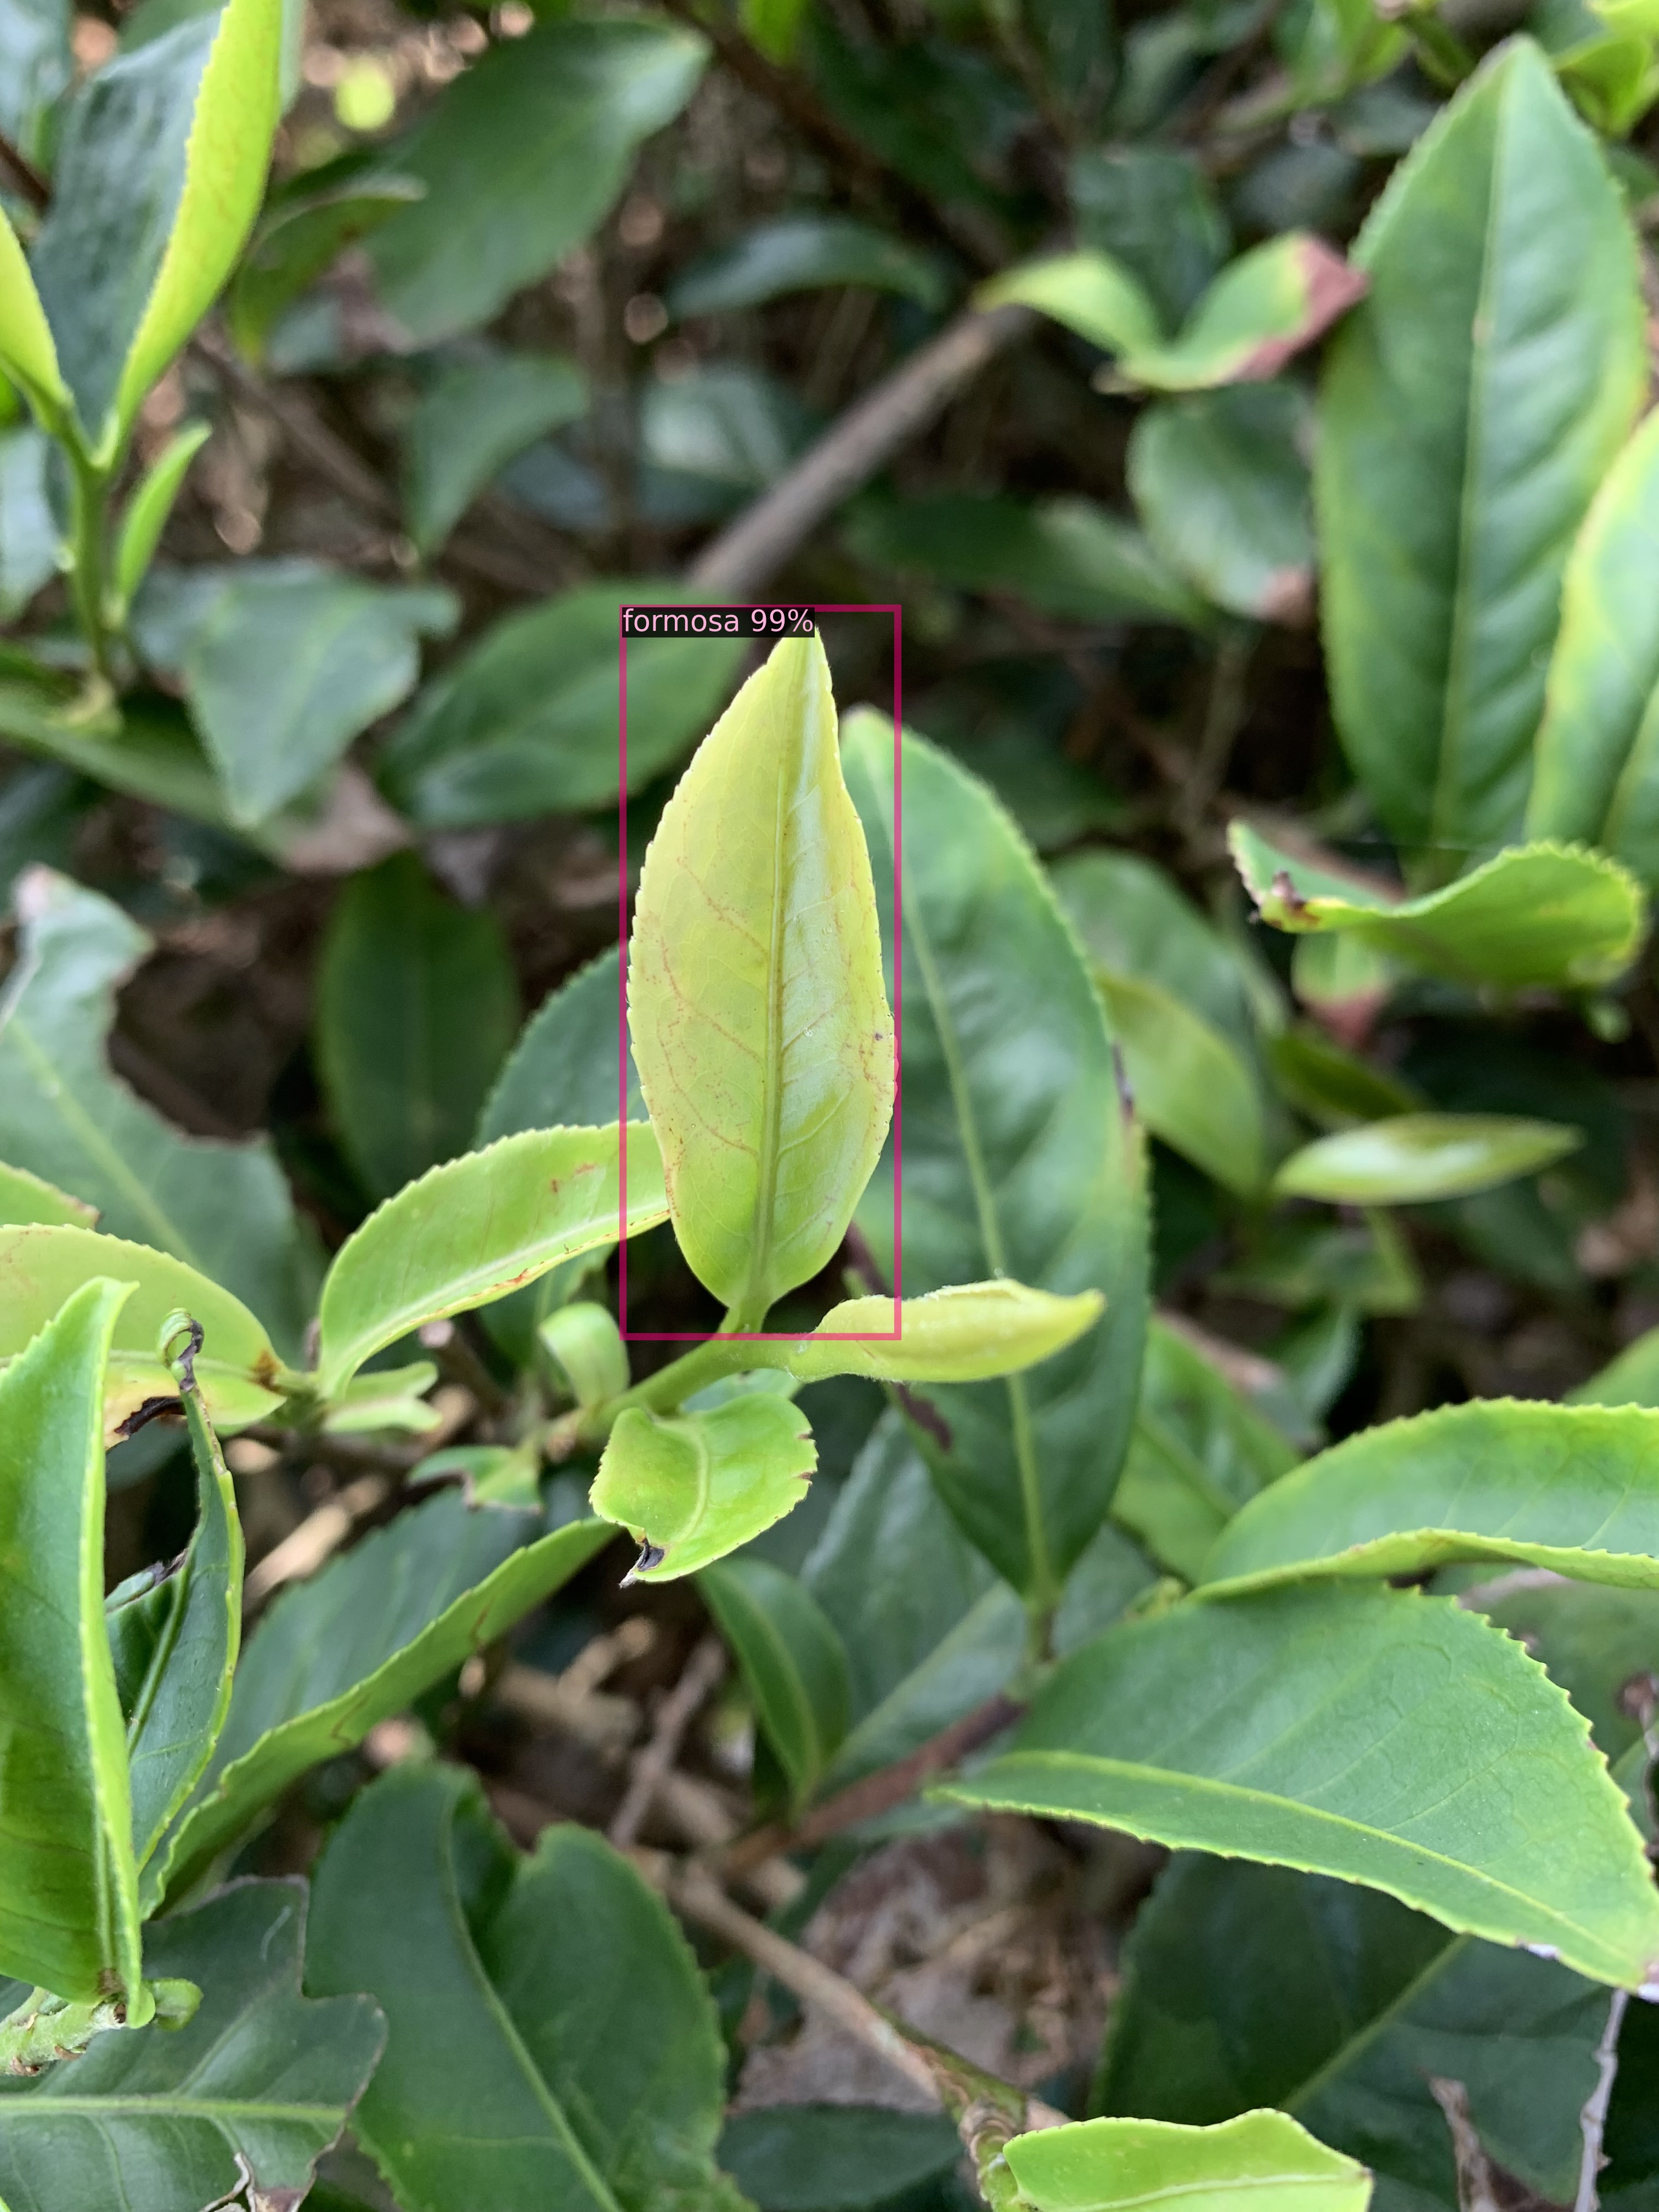formosa: (622, 608, 897, 1336)
